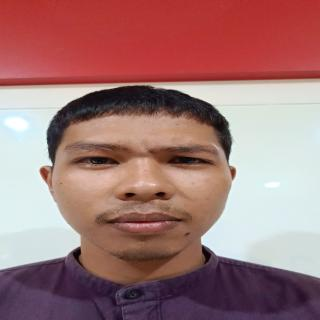Marah: (48, 103, 240, 271)
